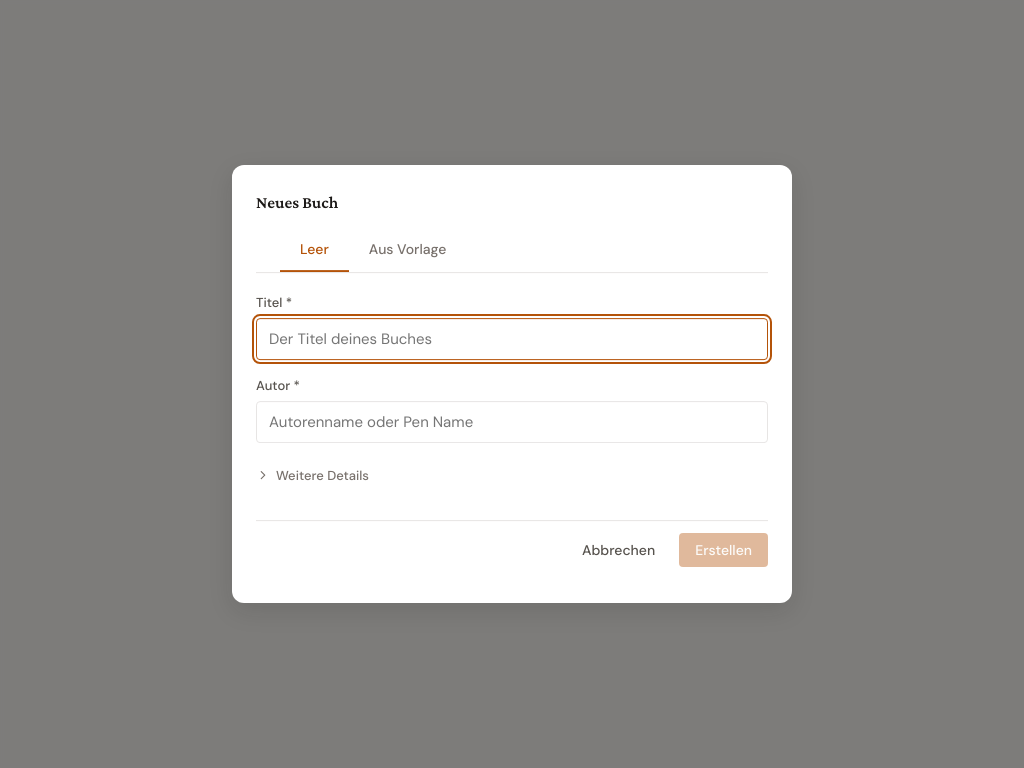
Test: CreateBookModal › shows 'no templates' state when the list is empty
Press the mouse on the tab with test id "create-book-mode-template" at (408, 250), box [349,228,466,272]
Press the mouse on the tab with test id "create-book-mode-template" at (408, 250), box [349,228,466,272]
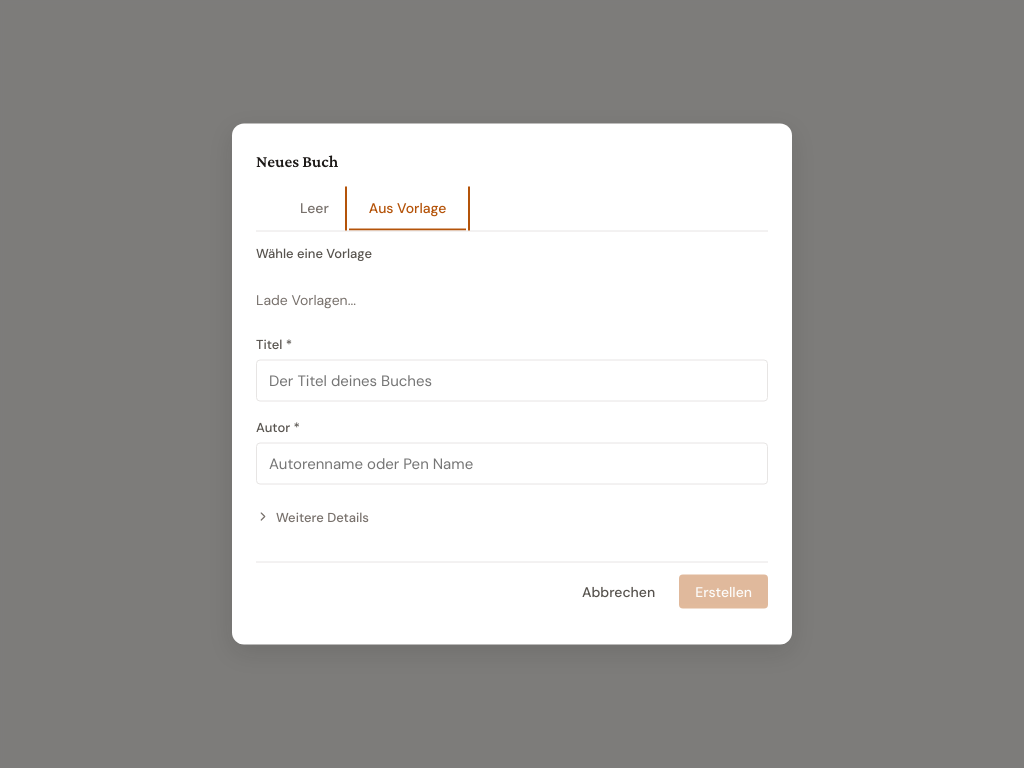
Click the tab with test id "create-book-mode-template".
click(408, 209)  # box [349,187,466,231]
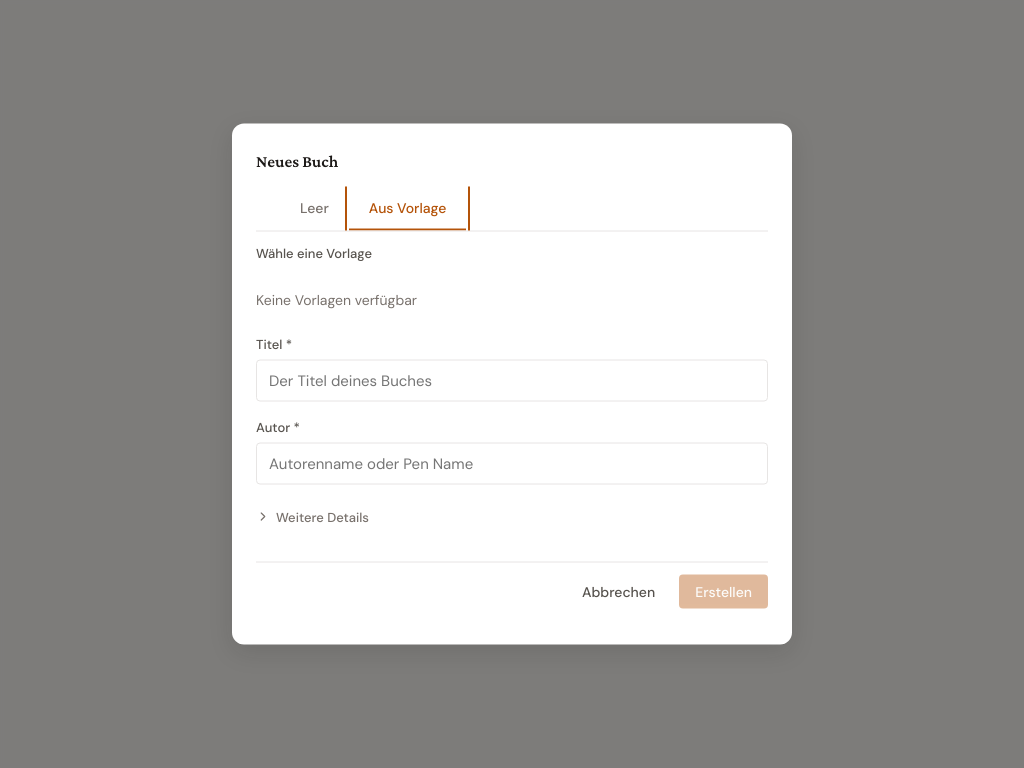
Result: the text "Keine Vorlagen verfügbar" is shown at [256,290,417,308]
